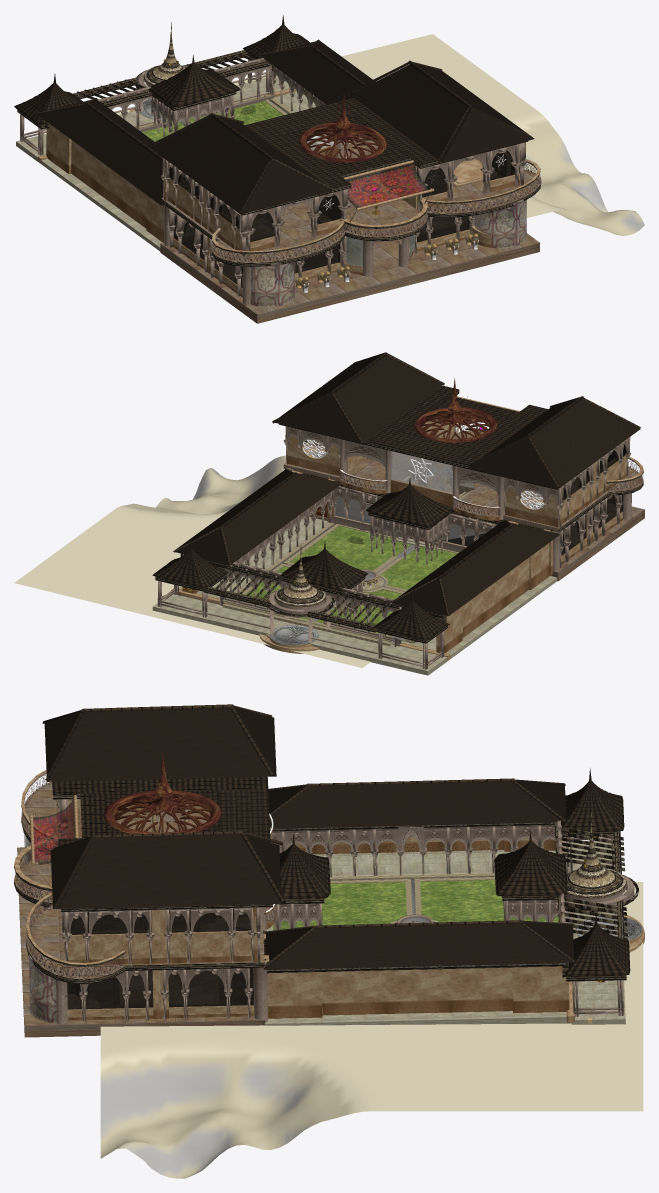
3 views of the same model, one above another, from view 1: azimuth 30°, elevation 25°; view 2: azimuth 150°, elevation 25°; view 3: azimuth 270°, elevation 25° (orthographic). The views are drawn at different scales.
Parts seen in each view (by area): view 1: Medici Castle 1110 prim, Terrain 4,5, 10 Patio Leones Superior Casa, 5 Patio Leones Tejado Dch, 6 Patio Leones Tejado Izd, 1 Patio Leones Entrada, Spire 3, lll, 14 Patio Leones Arcos ext.Casa, Window Room 2; view 2: Medici Castle 1110 prim, Terrain 4,5, 10 Patio Leones Superior Casa, 6 Patio Leones Tejado Izd, 5 Patio Leones Tejado Dch, 1 Patio Leones Entrada, Spire 3, 2 Patio Leones Gazebos; view 3: Medici Castle 1110 prim, Terrain 4,5, 10 Patio Leones Superior Casa, 6 Patio Leones Tejado Izd, 5 Patio Leones Tejado Dch, 1 Patio Leones Entrada, lll (×2), Patio Leones3, Spire 3, 2 Patio Leones Gazebos.
Boxes of the visible parts, left/top/right/bottom form: Medici Castle 1110 prim: left=14, top=15, right=541, bottom=323; Terrain 4,5: left=116, top=34, right=644, bottom=235; 10 Patio Leones Superior Casa: left=148, top=116, right=333, bottom=213; 5 Patio Leones Tejado Dch: left=38, top=99, right=184, bottom=205; 6 Patio Leones Tejado Izd: left=261, top=41, right=374, bottom=104; 1 Patio Leones Entrada: left=16, top=75, right=289, bottom=161; Spire 3: left=143, top=22, right=186, bottom=85; lll: left=471, top=222, right=524, bottom=247; 14 Patio Leones Arcos ext.Casa: left=244, top=202, right=299, bottom=254; Window Room 2: left=483, top=150, right=519, bottom=182; Medici Castle 1110 prim: left=152, top=352, right=644, bottom=669; Terrain 4,5: left=14, top=455, right=413, bottom=667; 10 Patio Leones Superior Casa: left=468, top=399, right=640, bottom=488; 6 Patio Leones Tejado Izd: left=173, top=470, right=341, bottom=564; 5 Patio Leones Tejado Dch: left=391, top=521, right=559, bottom=615; 1 Patio Leones Entrada: left=152, top=594, right=447, bottom=675; Spire 3: left=274, top=543, right=326, bottom=607; 2 Patio Leones Gazebos: left=157, top=578, right=223, bottom=617; Medici Castle 1110 prim: left=14, top=704, right=644, bottom=1037; Terrain 4,5: left=100, top=882, right=643, bottom=1178; 10 Patio Leones Superior Casa: left=44, top=707, right=276, bottom=781; 6 Patio Leones Tejado Izd: left=263, top=922, right=574, bottom=969; 5 Patio Leones Tejado Dch: left=268, top=781, right=566, bottom=828; 1 Patio Leones Entrada: left=564, top=840, right=625, bottom=1024; lll (×2): left=32, top=971, right=216, bottom=1021; Patio Leones3: left=70, top=908, right=250, bottom=934; Spire 3: left=566, top=812, right=627, bottom=898; 2 Patio Leones Gazebos: left=571, top=980, right=623, bottom=1016.
Bounding box in the file's own units: 76.47 × 33.12 × 74.42.
205 materials, 204 textured.
